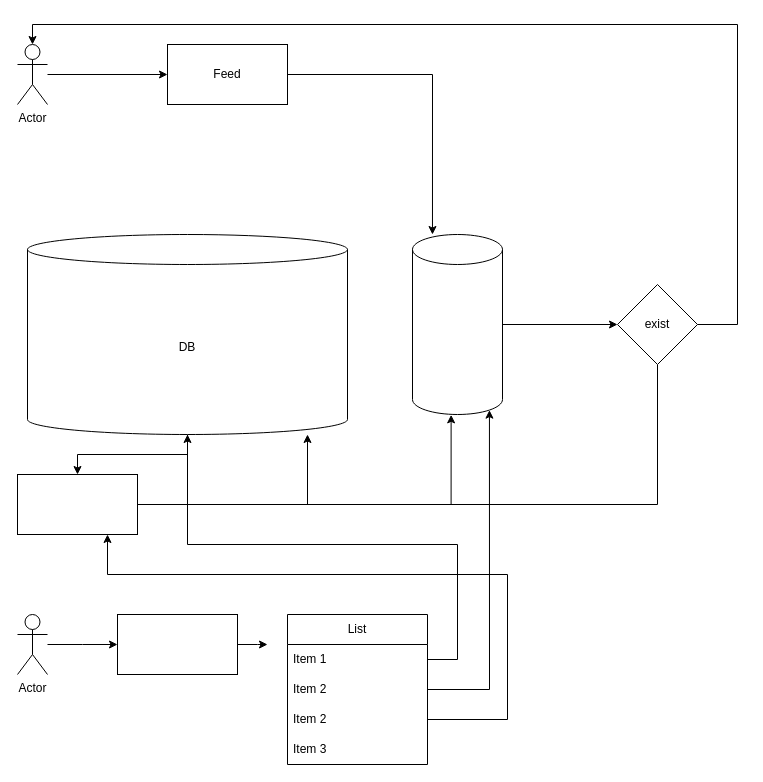
Some shapes in this 763 by 782 pixel diagram are drawn without their labels. Each missing label, with the centre of its shape:
"add post" belongs at pixel 177 644.
"Get feed from feed relation" belongs at pixel 77 504.
"Redis" belongs at pixel 457 324.
